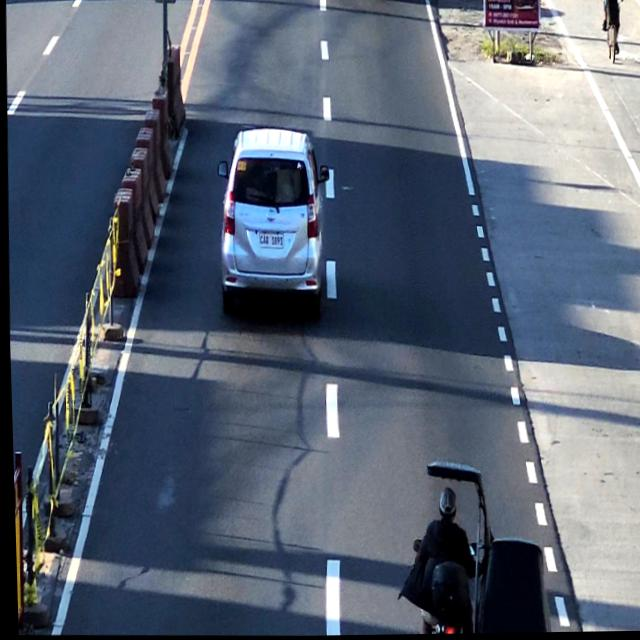Car: (212, 128, 326, 314)
License-Plate: (256, 228, 282, 254)
Tricycle: (406, 455, 552, 635)
